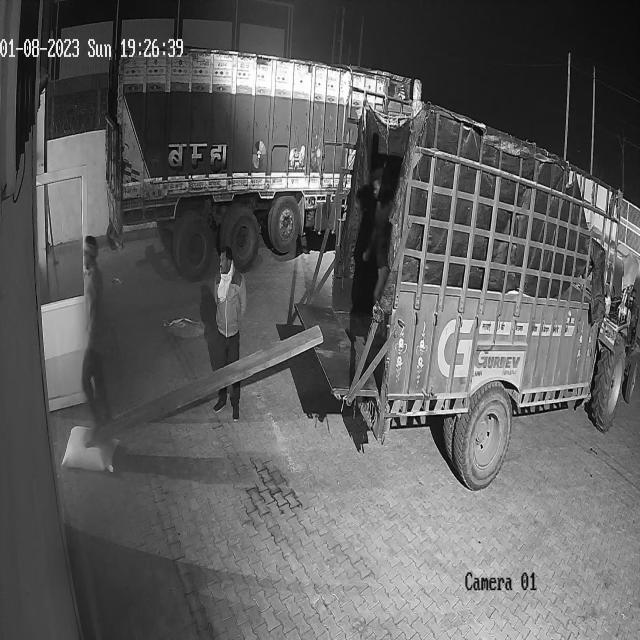sack: (62, 426, 117, 472)
